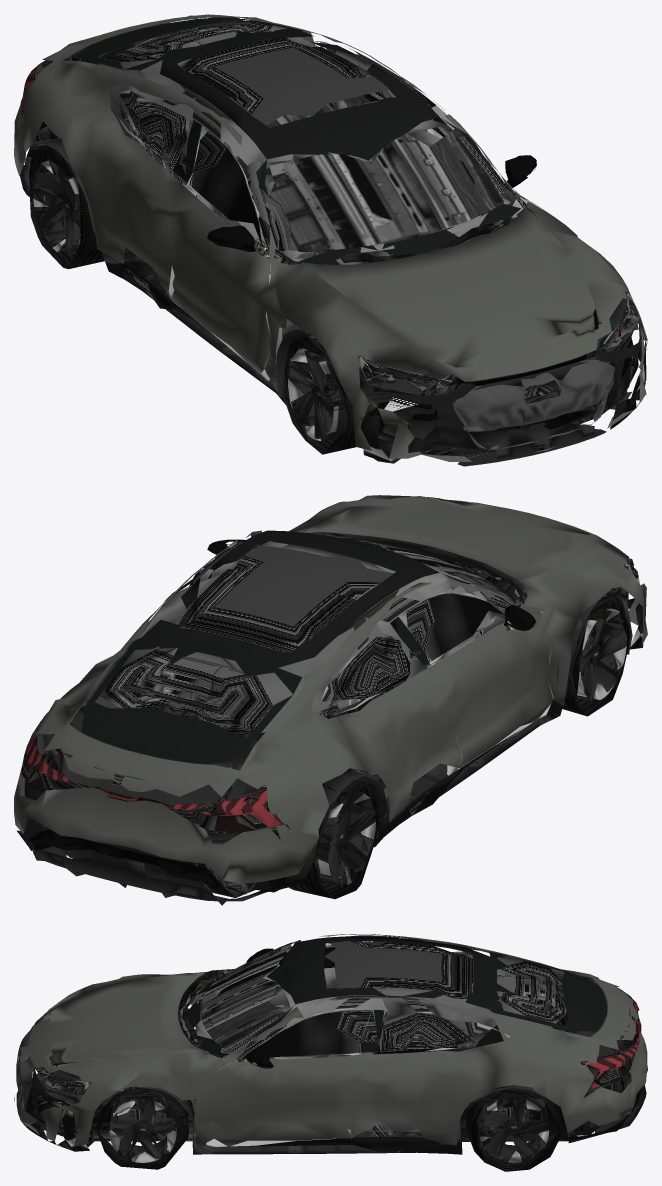
Rendered from 2018_audi_e-tron_gt_concept.glb.
3 renders of one model, top to bottom at view 1: azimuth 30°, elevation 25°; view 2: azimuth 150°, elevation 25°; view 3: azimuth 270°, elevation 25°, orthographic. The views are drawn at different scales.
Visible parts, largest first — view 1: body; view 2: body; view 3: body.
Part boxes in pixels (x1,y1,x2,y2): body: (14,14,647,466); body: (14,495,647,905); body: (14,934,647,1171).
Bounding box in the file's own units: 2.16 × 1.38 × 4.98.
12 materials, 10 textured.
